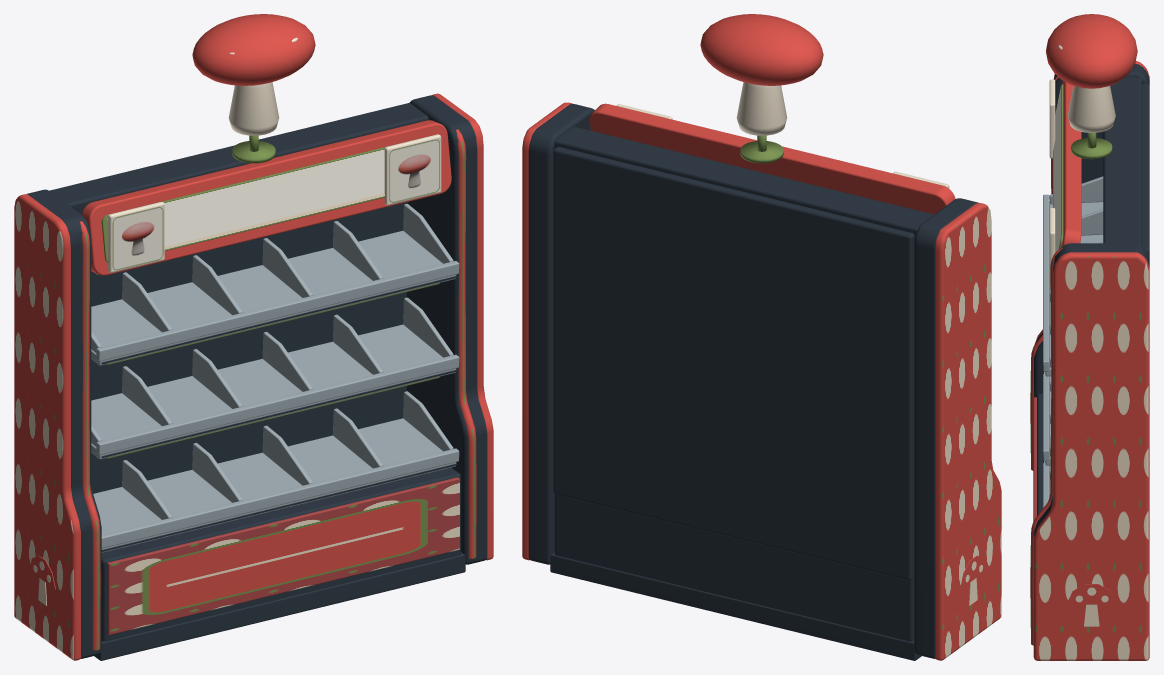
File: TH_MUSHROOM_GROVE.fbx
The picture shows the model from 3 angles, left to right: view 1: azimuth 30°, elevation 25°; view 2: azimuth 150°, elevation 25°; view 3: azimuth 270°, elevation 25°; orthographic projection. The views are drawn at different scales.
Parts seen in each view (by area): view 1: BaseFrontInset, Left_PaintedPanel, BackPanel.001, Right_StructuralWall, Tray_01, Tray_02, Tray_03, HeaderFace, HeaderBorder, TopCrossRail, Left_StructuralWall, ClosedSolidBase (+34 smaller); view 2: BackPanel.001, Left_PaintedPanel, ClosedSolidBase, Right_StructuralWall, HeaderBorder, Left_StructuralWall, TopCrossRail, LowerPlinth, Velvet mushroom cap, Right_PaintedPanel, Mushroom stem, TopperMount; view 3: Right_PaintedPanel, TopCrossRail, Velvet mushroom cap, HeaderBorder, Mushroom stem, HeaderFace, Left_StructuralWall, BackPanel.001, FrontLip_01, RightHousing, Right_StructuralWall, ClosedSolidBase (+13 smaller).
Boxes of the visible parts, x1=… form: BaseFrontInset: x1=107, y1=477, x2=459, y2=635; Left_PaintedPanel: x1=14, y1=194, x2=81, y2=660; BackPanel.001: x1=91, y1=202, x2=406, y2=493; Right_StructuralWall: x1=407, y1=95, x2=487, y2=564; Tray_01: x1=91, y1=231, x2=456, y2=365; Tray_02: x1=91, y1=324, x2=456, y2=459; Tray_03: x1=93, y1=418, x2=456, y2=552; HeaderFace: x1=101, y1=136, x2=428, y2=262; HeaderBorder: x1=82, y1=120, x2=451, y2=275; TopCrossRail: x1=49, y1=103, x2=428, y2=214; Left_StructuralWall: x1=26, y1=189, x2=101, y2=658; ClosedSolidBase: x1=101, y1=467, x2=460, y2=641; BackPanel.001: x1=553, y1=147, x2=914, y2=580; Left_PaintedPanel: x1=934, y1=203, x2=1001, y2=660; ClosedSolidBase: x1=555, y1=494, x2=914, y2=641; Right_StructuralWall: x1=528, y1=104, x2=594, y2=564; HeaderBorder: x1=590, y1=103, x2=955, y2=214; Left_StructuralWall: x1=914, y1=198, x2=978, y2=658; TopCrossRail: x1=554, y1=126, x2=933, y2=240; LowerPlinth: x1=550, y1=552, x2=921, y2=660; Velvet mushroom cap: x1=700, y1=14, x2=823, y2=85; Right_PaintedPanel: x1=522, y1=102, x2=572, y2=560; Mushroom stem: x1=736, y1=82, x2=787, y2=135; TopperMount: x1=740, y1=141, x2=783, y2=163; Right_PaintedPanel: x1=1033, y1=252, x2=1149, y2=660; TopCrossRail: x1=1103, y1=77, x2=1141, y2=245; Velvet mushroom cap: x1=1046, y1=14, x2=1137, y2=88; HeaderBorder: x1=1061, y1=80, x2=1081, y2=246; Mushroom stem: x1=1067, y1=85, x2=1115, y2=132; HeaderFace: x1=1053, y1=84, x2=1063, y2=252; Left_StructuralWall: x1=1034, y1=63, x2=1149, y2=397; BackPanel.001: x1=1142, y1=83, x2=1149, y2=258; FrontLip_01: x1=1043, y1=194, x2=1049, y2=371; RightHousing: x1=1030, y1=247, x2=1062, y2=645; Right_StructuralWall: x1=1033, y1=243, x2=1149, y2=537; ClosedSolidBase: x1=1036, y1=394, x2=1042, y2=515.
Bounding box in the file's own units: 3.62 × 4.68 × 0.9273.
